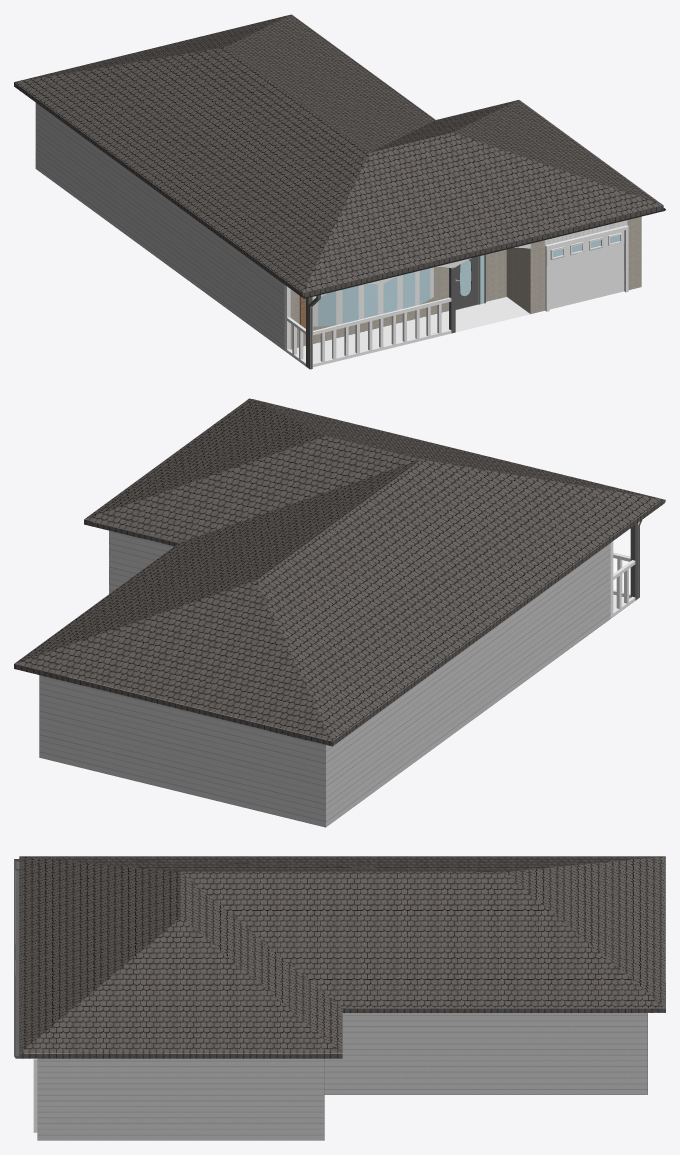
The model's file is Residential House 02.fbx.
The picture shows the model from 3 angles, top to bottom: view 1: azimuth 30°, elevation 25°; view 2: azimuth 150°, elevation 25°; view 3: azimuth 270°, elevation 25°; orthographic projection. The views are drawn at different scales.
Parts seen in each view (by area): view 1: Residential_House_02_LOD0; view 2: Residential_House_02_LOD0; view 3: Residential_House_02_LOD0.
Part boxes in pixels (x1,y1,x2,y2): Residential_House_02_LOD0: [14, 14, 665, 369]; Residential_House_02_LOD0: [14, 398, 665, 827]; Residential_House_02_LOD0: [14, 856, 665, 1140].
Size of what is drawn, in the model's own units: 1300 by 475 by 1815.
Materials: 1 (1 with a texture image).
